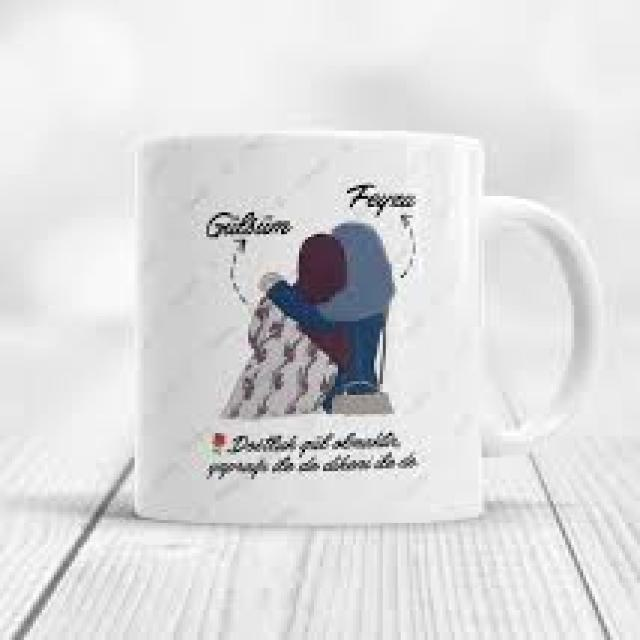taza: (130, 129, 603, 534)
